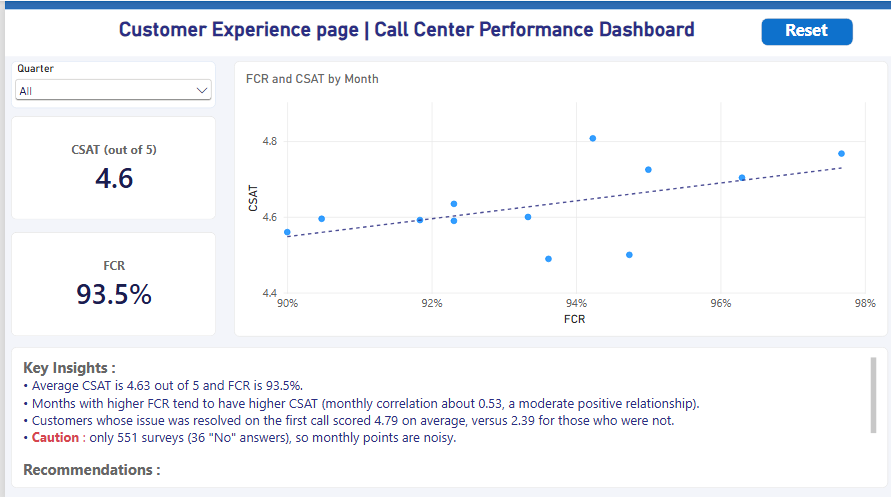

The page's visual inventory and layout, read from the dashboard file:
{"tool":"powerbi","page":{"name":"Customer Experience","canvas":[1280,720],"ordinal":3},"visuals":[{"type":"shape","box":[0,0,1280,80],"z":0},{"type":"textbox","box":[100,22.9,951.4,44.3],"z":1000},{"type":"shape","box":[0,0,1280,12],"z":2000},{"type":"slicer","fields":{"Values":["Calendar.Quarter"]},"box":[8.6,86.4,295.2,67.7],"z":4000},{"type":"cardVisual","fields":{"Data":["_Measures.CSAT"]},"box":[8.6,165.6,295.2,149.8],"z":6000},{"type":"cardVisual","fields":{"Data":["_Measures.FCR"]},"box":[8.8,332.5,295,150],"z":7000},{"type":"scatterChart","fields":{"Category":["Calendar.Month"],"X":["_Measures.FCR"],"Y":["_Measures.CSAT"]},"box":[330,86.7,941.7,396.7],"z":8000},{"type":"textbox","box":[8.6,498.6,1262.9,202.9],"z":9000},{"type":"actionButton","title":"Reset","box":[1088.3,25,133.3,40],"z":10000}]}

Visuals, with their boxes in screenshot pixels (x1, y1, x2, y2), scaled from the page's 1280x720 canvas onto the 891x497 screenshot:
shape: <region>0, 0, 890, 55</region>
textbox: <region>70, 16, 732, 46</region>
shape: <region>0, 0, 890, 8</region>
slicer - Calendar.Quarter: <region>6, 60, 211, 106</region>
cardVisual - _Measures.CSAT: <region>6, 114, 211, 218</region>
cardVisual - _Measures.FCR: <region>6, 230, 211, 333</region>
scatterChart - Calendar.Month x _Measures.FCR: <region>230, 60, 885, 334</region>
textbox: <region>6, 344, 885, 484</region>
"Reset" actionButton: <region>758, 17, 850, 45</region>
